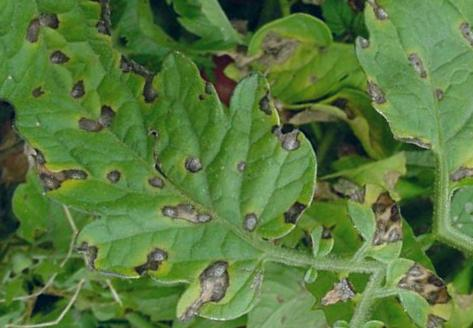Tomato Septoria leaf spot: (0, 0, 376, 328), (303, 0, 473, 232)
